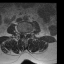CCS_normal: (24, 31, 26, 39)
LFS_stenosis: (27, 30, 29, 36)
LLS_stenosis: (26, 31, 27, 37)
RFS_severe_stenosis: (21, 31, 22, 36)
RLS_stenosis: (22, 31, 24, 36)
